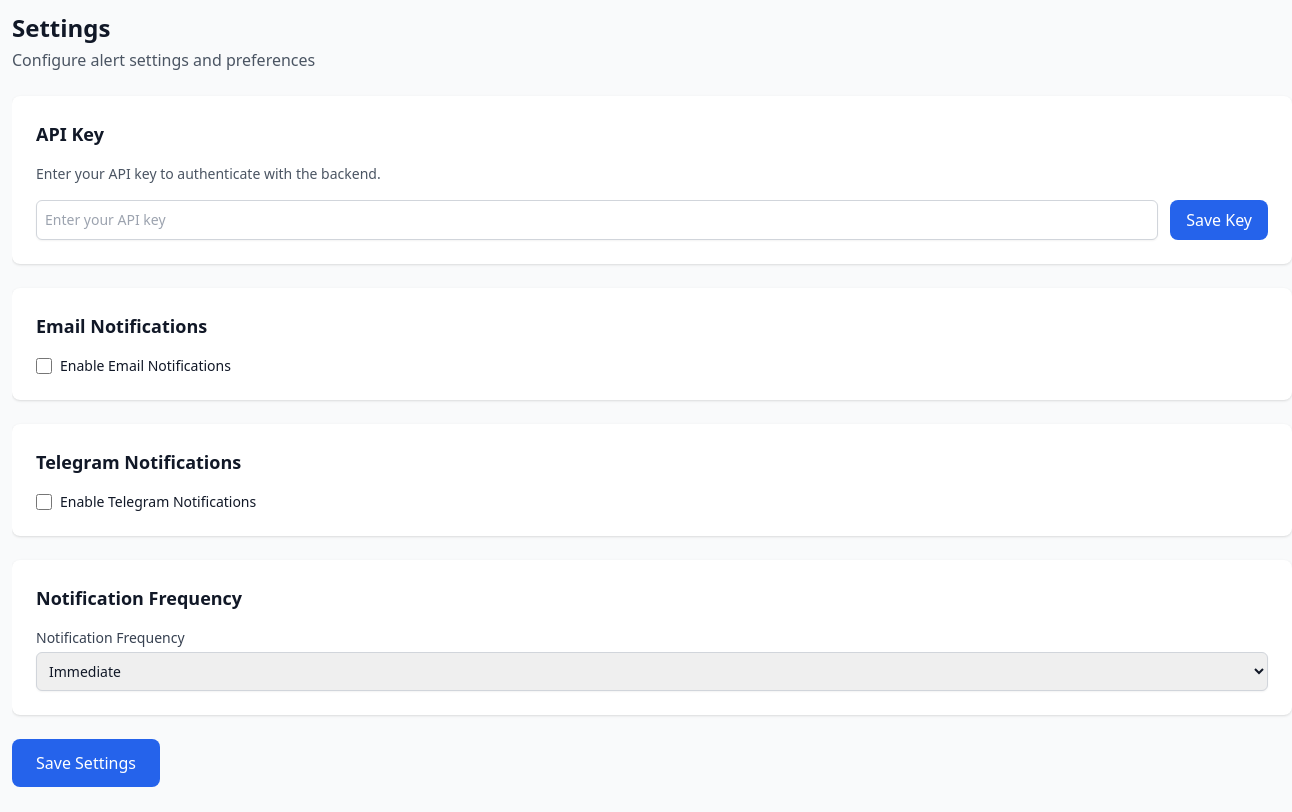
Test case: SettingsPage › should show telegram chat id input when telegram notifications enabled
Step 1. Click the checkbox labelled "Enable Telegram Notifications" → (44,502), box [36,494,52,510]
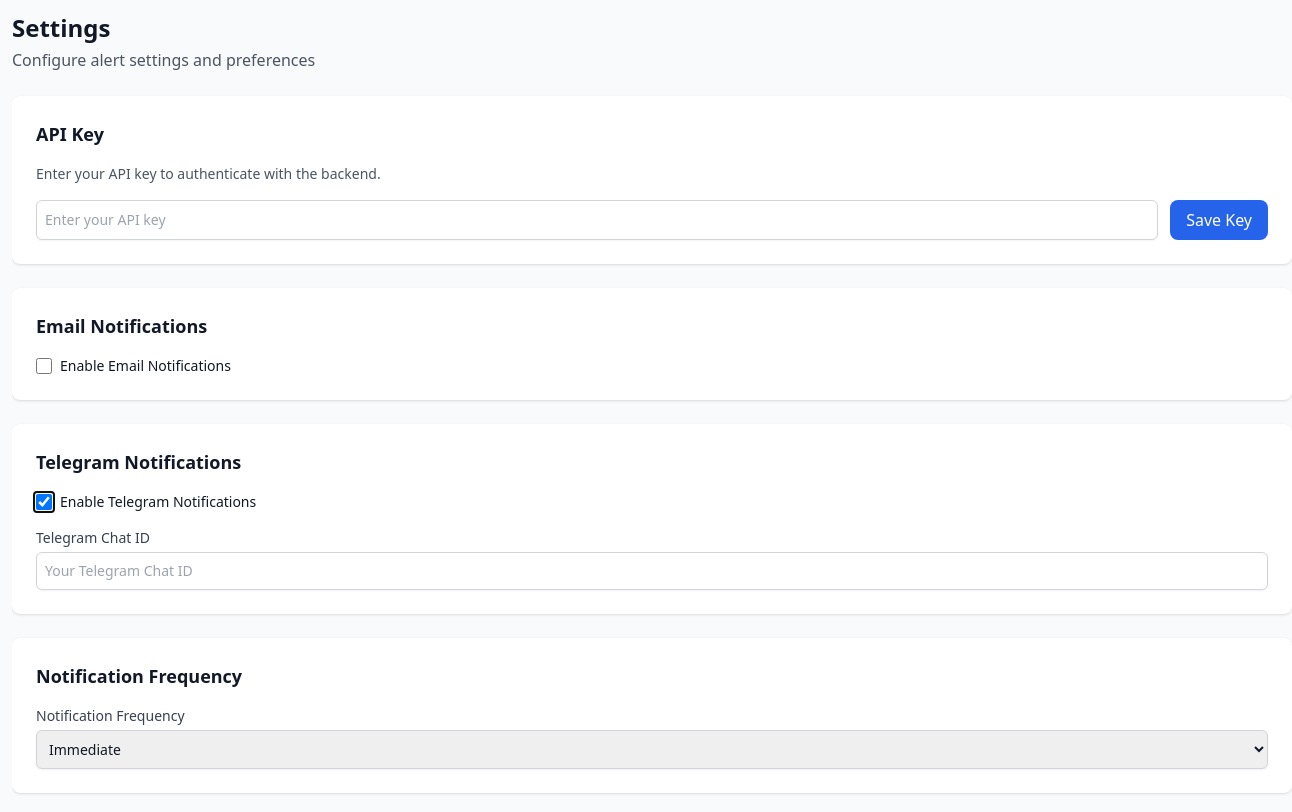
Expected: the field labelled "Telegram Chat ID" is shown, [36,552,1268,590]
